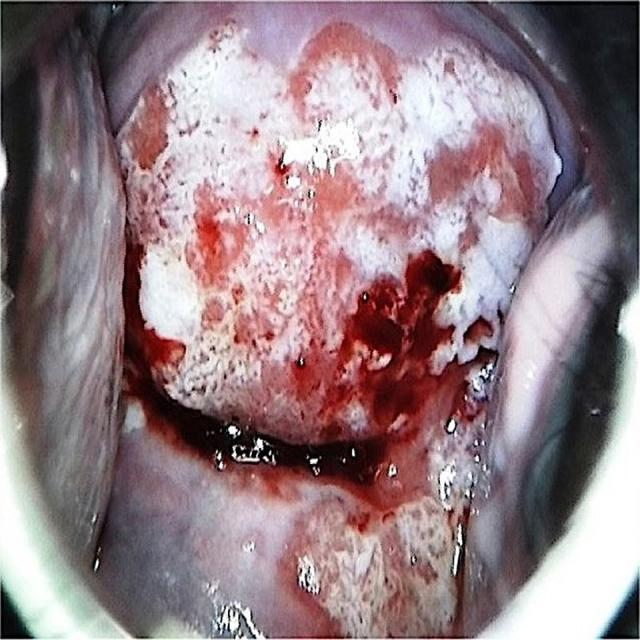cervical_lesion: (71, 9, 587, 635)
